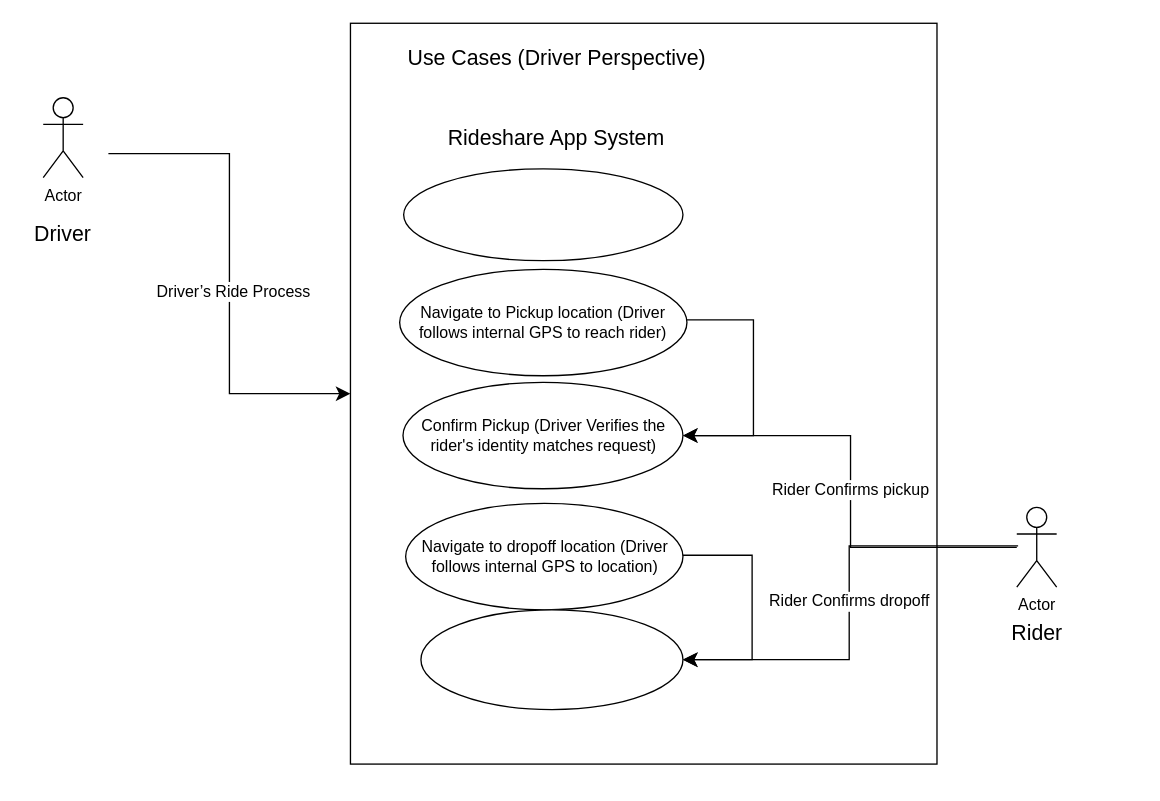
The diagram is 1160 pixels wide and 801 high, and some of its shapes have lost their labels. The centre of each missing label's shape, as x and y in pixels:
"Accept Ride Request (Driver selects a ride from available requests)" belongs at [542,214].
"Confirm dropoff (Driver completes the ride)" belongs at [551,659].
